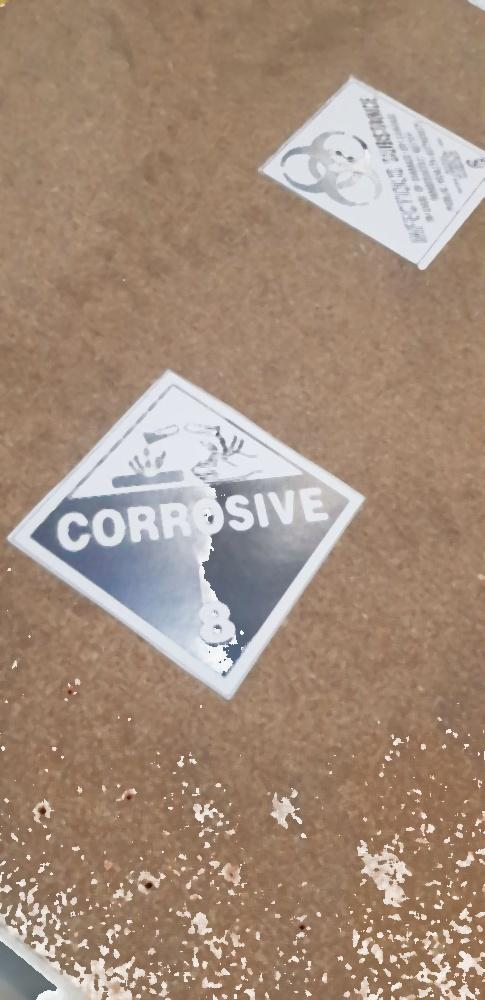corrosive: (7, 369, 374, 697)
infectious-substance: (257, 80, 483, 264)
